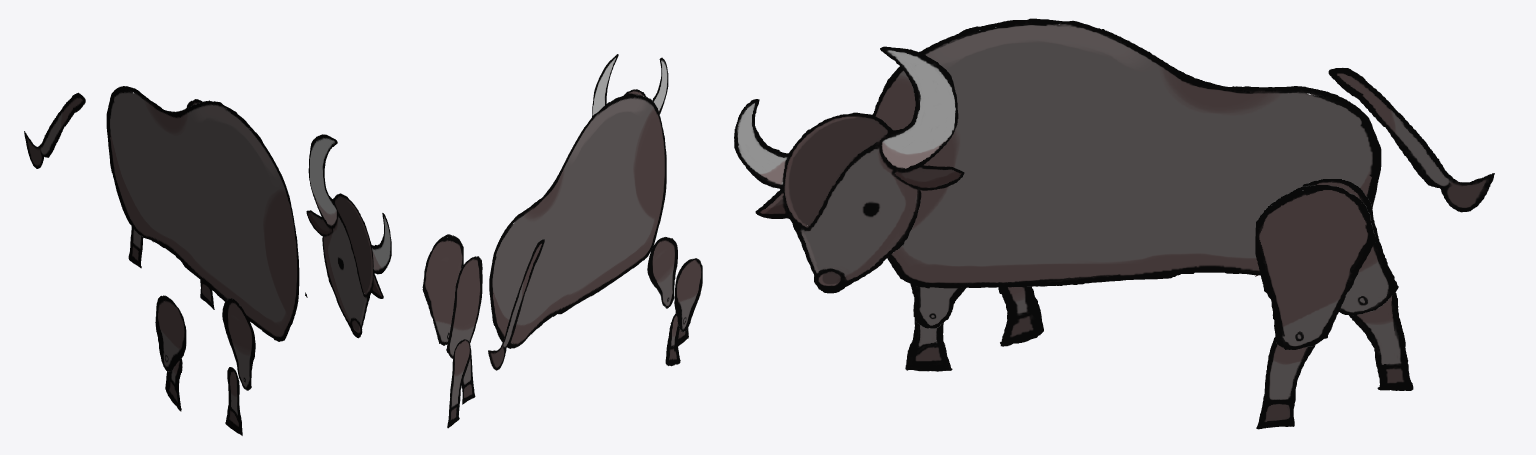
3 views of the same model, side by side, from view 1: azimuth 30°, elevation 25°; view 2: azimuth 150°, elevation 25°; view 3: azimuth 270°, elevation 25° (orthographic). The views are drawn at different scales.
Parts seen in each view (by area): view 1: id_002_body, id_002_head, id_002_Rarm, id_002_Larm, id_002_teal, id_002_Rhand, id_002_Lhand, id_002_Rfoot; view 2: id_002_body, id_002_Lleg, id_002_Rleg, id_002_Rarm, id_002_Larm, id_002_head, id_002_teal, id_002_Rfoot, id_002_Lhand, id_002_Lfoot; view 3: id_002_body, id_002_head, id_002_Lleg, id_002_teal, id_002_Rfoot, id_002_Rleg, id_002_Lfoot, id_002_Lhand, id_002_Rhand, id_002_Rarm.
Part boxes in pixels (<box>): id_002_body: <box>106,86,299,341</box>; id_002_head: <box>305,134,391,338</box>; id_002_Rarm: <box>222,298,255,390</box>; id_002_Larm: <box>155,295,186,371</box>; id_002_teal: <box>24,92,85,168</box>; id_002_Rhand: <box>225,367,242,435</box>; id_002_Lhand: <box>165,358,182,411</box>; id_002_Rfoot: <box>128,226,143,268</box>; id_002_body: <box>489,93,666,348</box>; id_002_Lleg: <box>422,234,463,345</box>; id_002_Rleg: <box>446,256,482,358</box>; id_002_Rarm: <box>647,237,677,308</box>; id_002_Larm: <box>674,258,702,332</box>; id_002_head: <box>592,54,668,116</box>; id_002_teal: <box>488,239,544,370</box>; id_002_Rfoot: <box>447,339,470,428</box>; id_002_Lhand: <box>665,313,680,366</box>; id_002_Lfoot: <box>462,346,475,404</box>; id_002_body: <box>872,18,1381,288</box>; id_002_head: <box>734,46,968,293</box>; id_002_Lleg: <box>1255,185,1375,349</box>; id_002_teal: <box>1328,67,1494,212</box>; id_002_Rfoot: <box>1349,292,1413,390</box>; id_002_Rleg: <box>1302,178,1398,315</box>; id_002_Lfoot: <box>1256,336,1315,429</box>; id_002_Lhand: <box>998,286,1043,346</box>; id_002_Rhand: <box>905,302,952,371</box>; id_002_Rarm: <box>910,283,966,328</box>.
Bounding box in the file's own units: 0.8253 × 1.5 × 2.78.
Materials: 1 (1 with a texture image).
